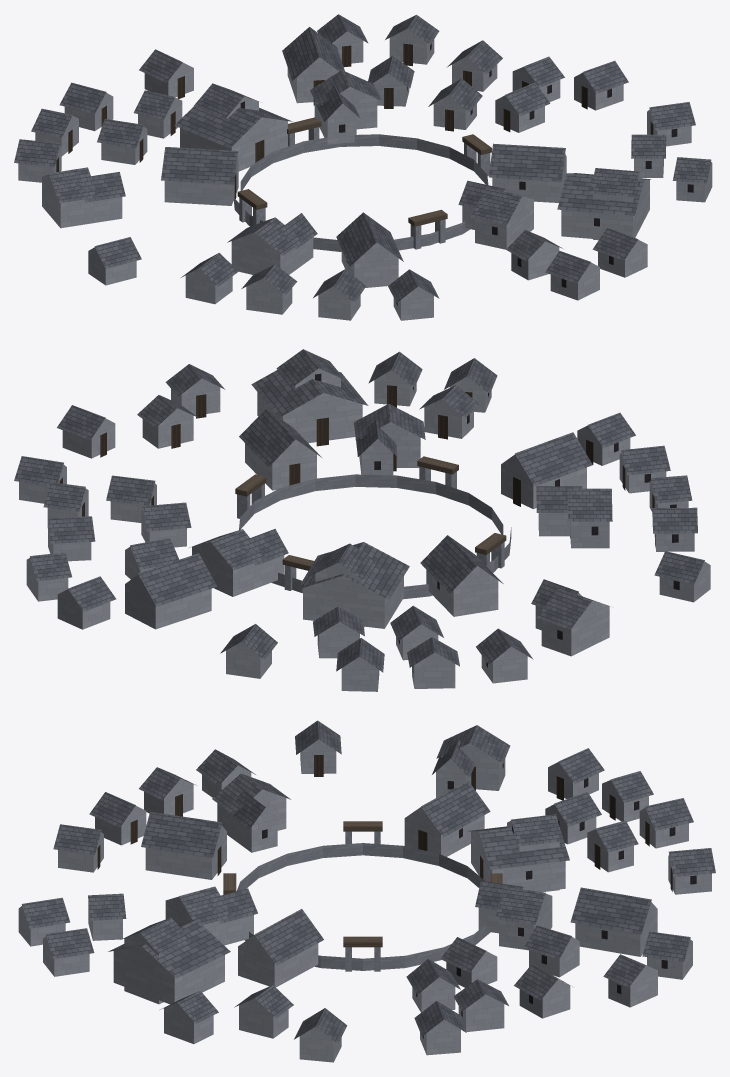
Rendered from ae_snow_neighbourhood_stone_lod1.glb.
The picture shows the model from 3 angles, top to bottom: view 1: azimuth 30°, elevation 25°; view 2: azimuth 150°, elevation 25°; view 3: azimuth 270°, elevation 25°; orthographic projection. The views are drawn at different scales.
Visible parts, largest first — view 1: ae_snow_neighbourhood_stone_lod1; view 2: ae_snow_neighbourhood_stone_lod1; view 3: ae_snow_neighbourhood_stone_lod1.
Part boxes in pixels (<box>): ae_snow_neighbourhood_stone_lod1: <box>14,14,712,320</box>; ae_snow_neighbourhood_stone_lod1: <box>14,349,710,691</box>; ae_snow_neighbourhood_stone_lod1: <box>18,720,715,1062</box>.
Size of the model in its own units: 1.89 by 0.1882 by 1.82.
1 material, 1 textured.
